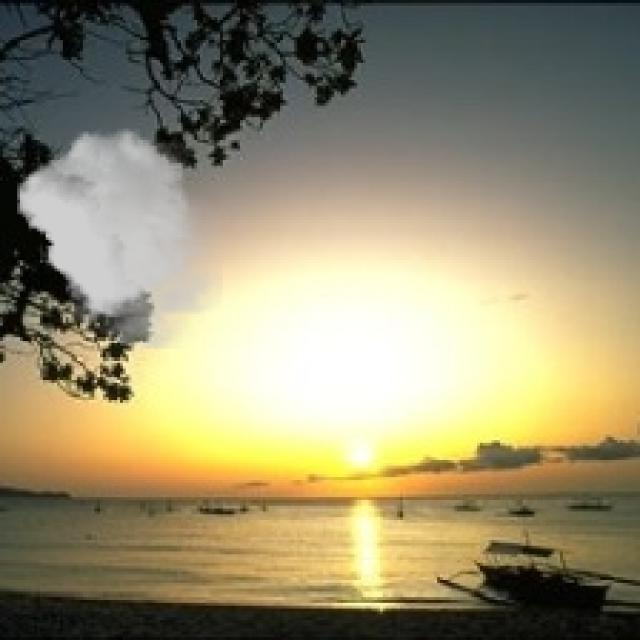smoke: (17, 128, 223, 348)
